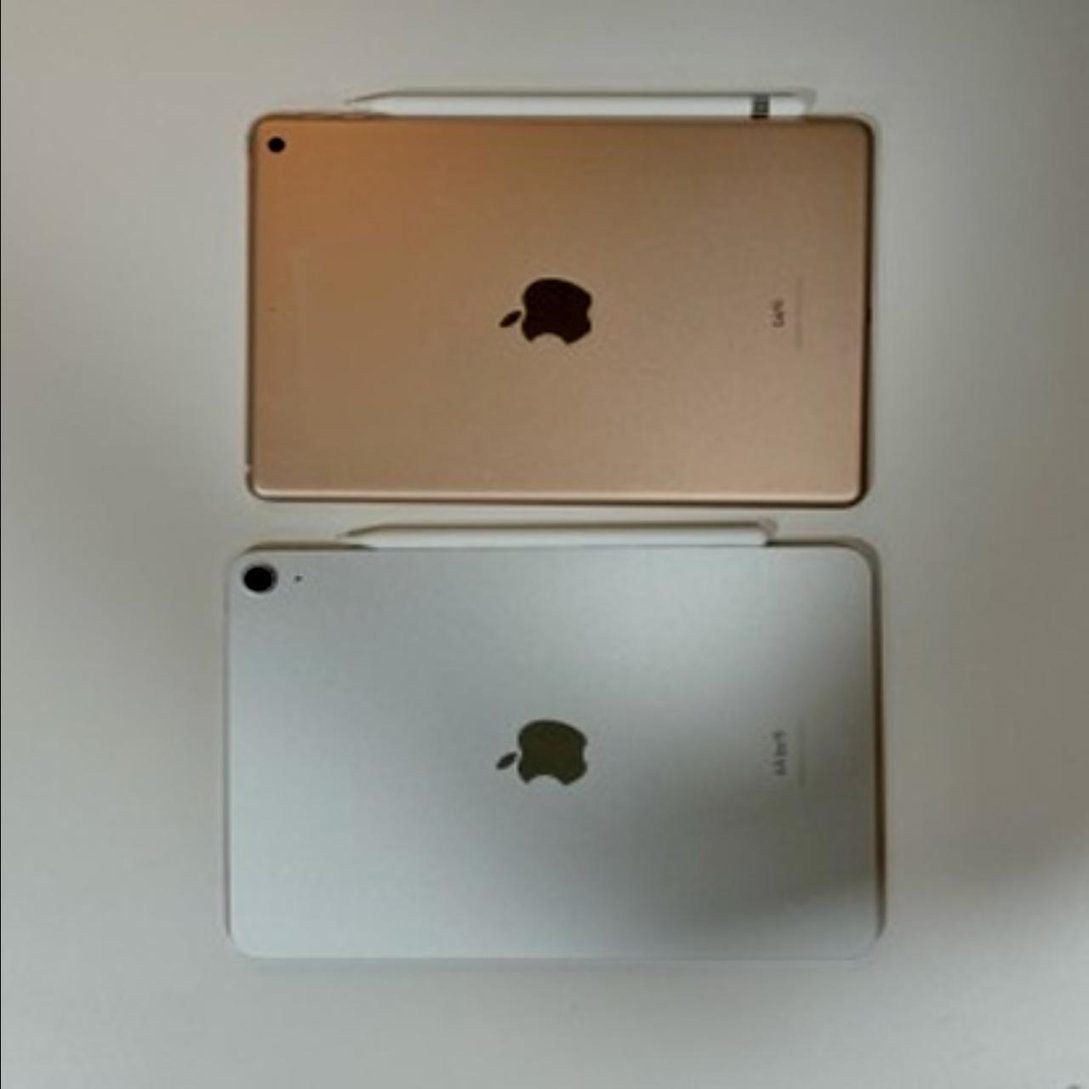Tablet_PC: (217, 505, 892, 973), (230, 82, 884, 521)
